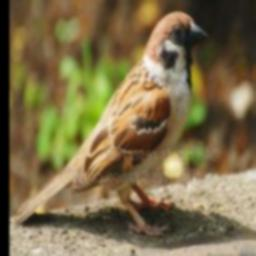Sparrow: (14, 9, 209, 237)
